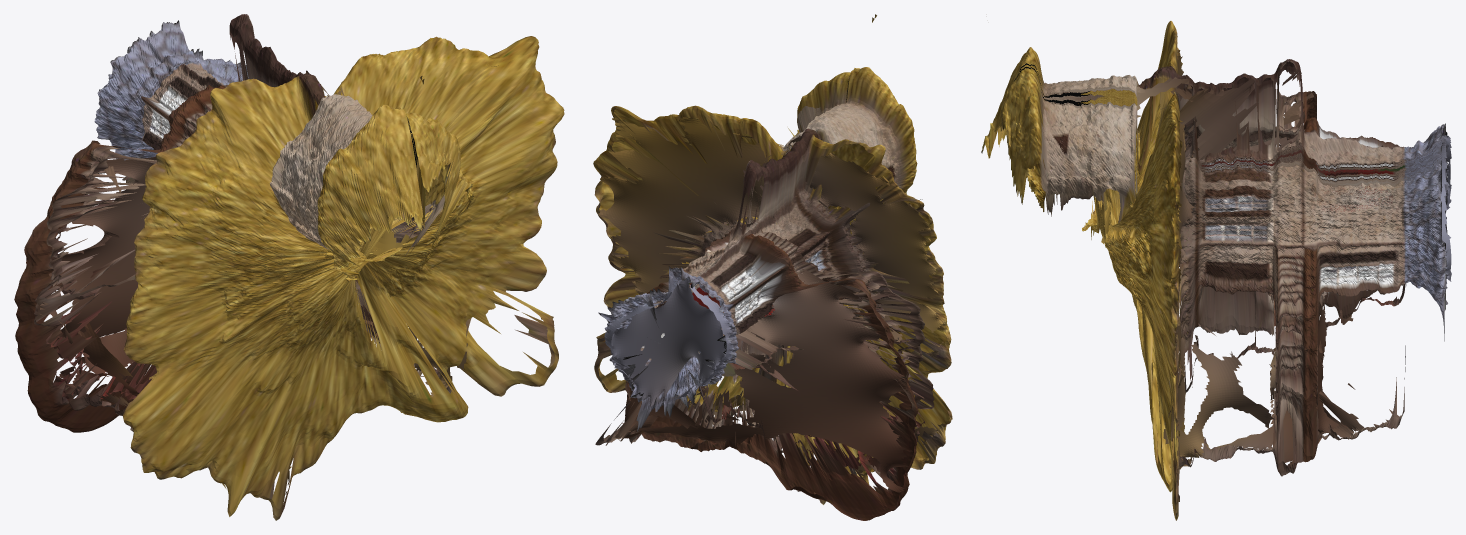
Rendered from guess_mesh.glb.
3 renders of one model, left to right at view 1: azimuth 30°, elevation 25°; view 2: azimuth 150°, elevation 25°; view 3: azimuth 270°, elevation 25°, orthographic. The views are drawn at different scales.
Visible parts, largest first — view 1: ipn, fill; view 2: ipn, fill; view 3: ipn, fill.
Part boxes in pixels (<box>): ipn: <box>14,14,564,520</box>; fill: <box>26,47,498,494</box>; ipn: <box>593,14,952,520</box>; fill: <box>598,117,943,496</box>; ipn: <box>981,21,1447,520</box>; fill: <box>1100,49,1451,475</box>.
Size of the model in its own units: 1.15 by 1.19 by 1.07.
Materials: 2 (1 with a texture image).
